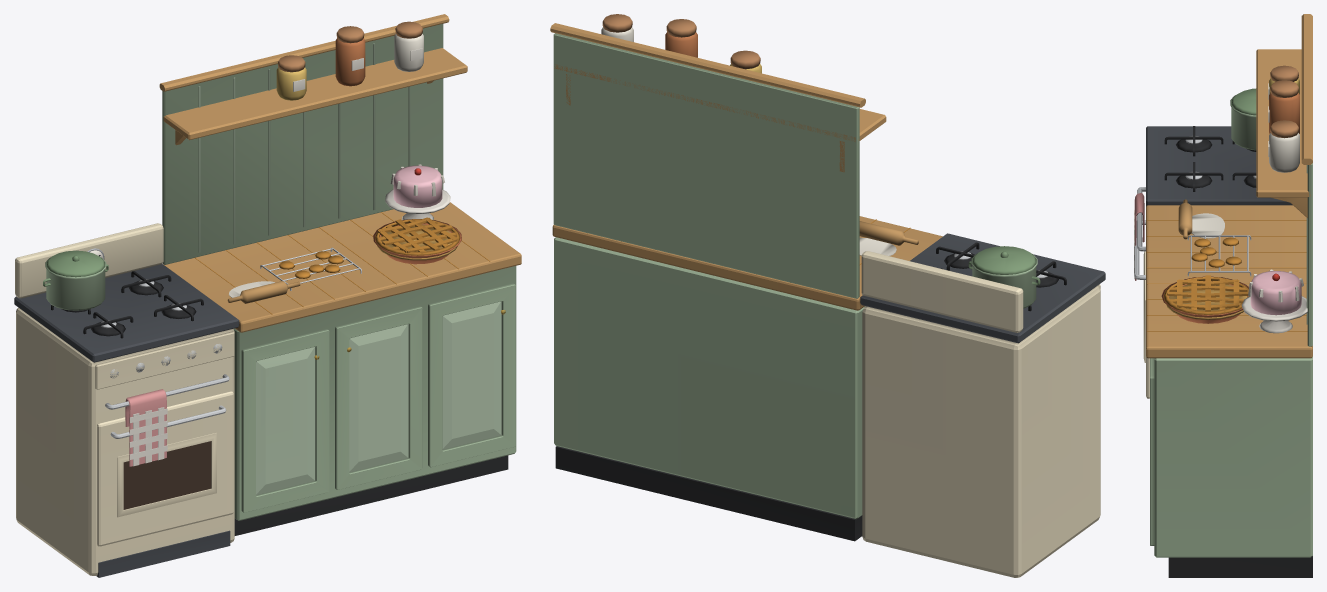
File: neighbourlyOven.glb
The picture shows the model from 3 angles, left to right: view 1: azimuth 30°, elevation 25°; view 2: azimuth 150°, elevation 25°; view 3: azimuth 270°, elevation 25°; orthographic projection. The views are drawn at different scales.
Parts seen in each view (by area): view 1: body, oven_door; view 2: body; view 3: body, oven_door.
Part boxes in pixels (box(x1,y1,x2,y2)): body: box(14, 14, 521, 577); oven_door: box(97, 391, 233, 546); body: box(550, 14, 1105, 577); body: box(1134, 14, 1312, 577); oven_door: box(1134, 220, 1149, 398).
Bounding box in the file's own units: 1.83 × 1.72 × 0.632.
